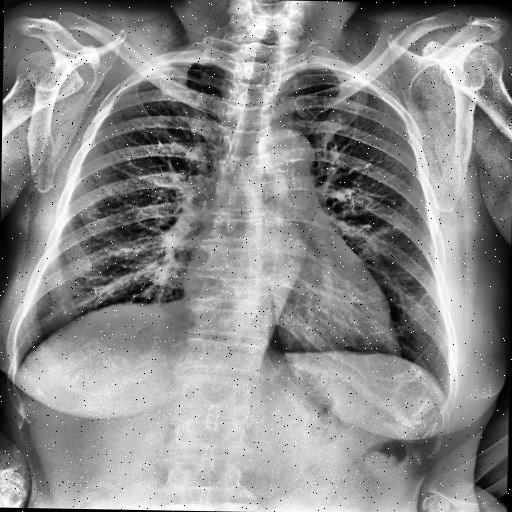0- Aortic enlargement: (260, 128, 318, 196), (256, 127, 316, 184), (256, 127, 312, 174)
